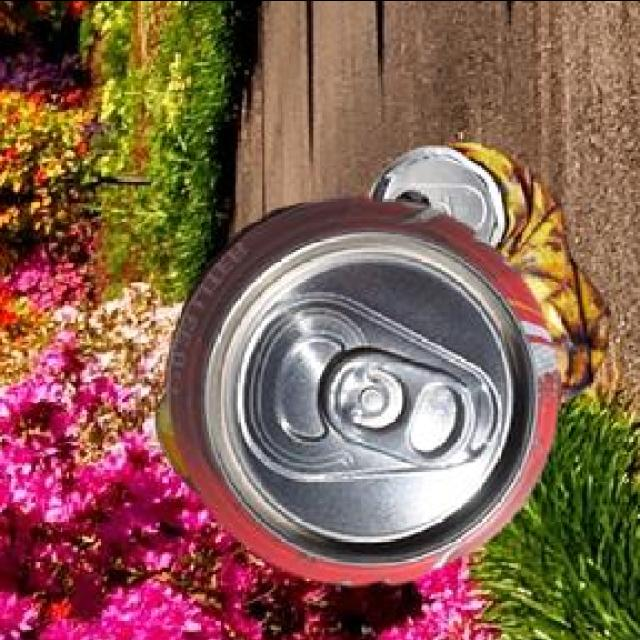logam: (163, 192, 554, 579), (361, 139, 606, 401), (152, 390, 194, 489)
